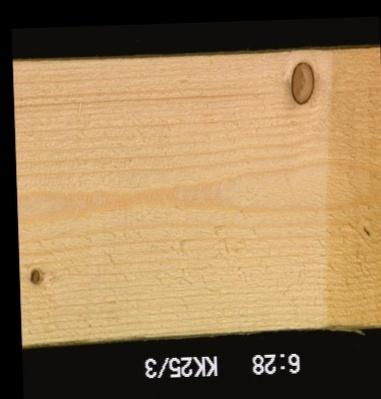dry_knot: (288, 59, 316, 105)
small_knot: (27, 266, 42, 286)
